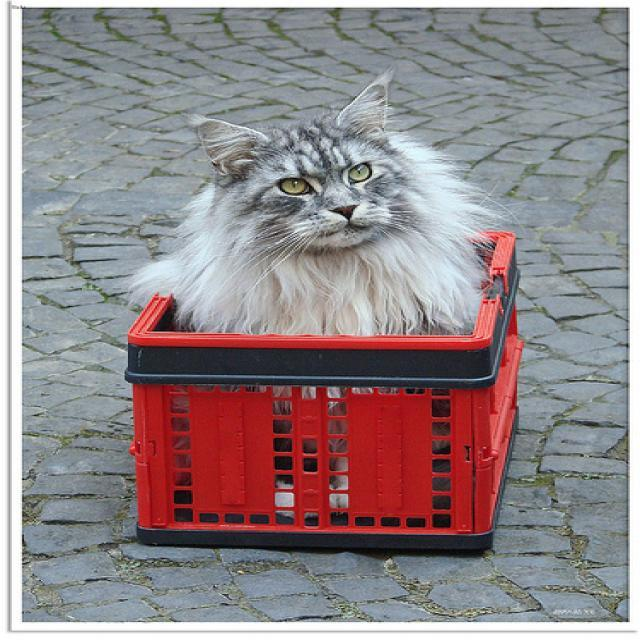Maine_Coon: (186, 73, 399, 246)
